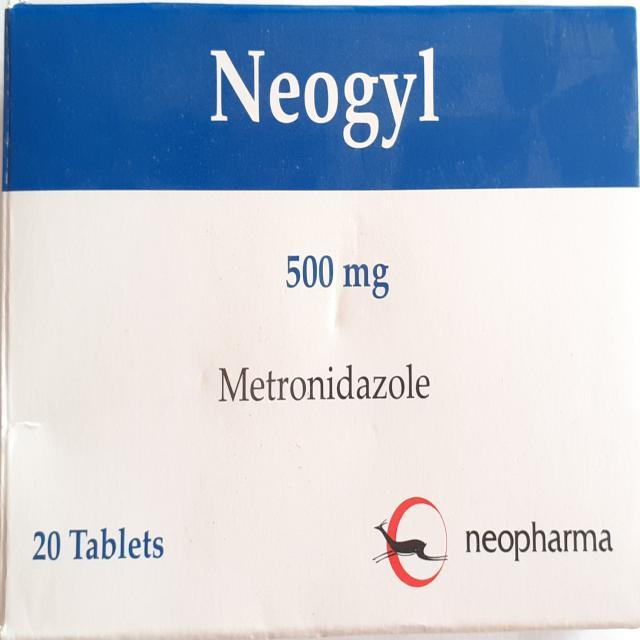drug-name: (208, 46, 440, 149)
